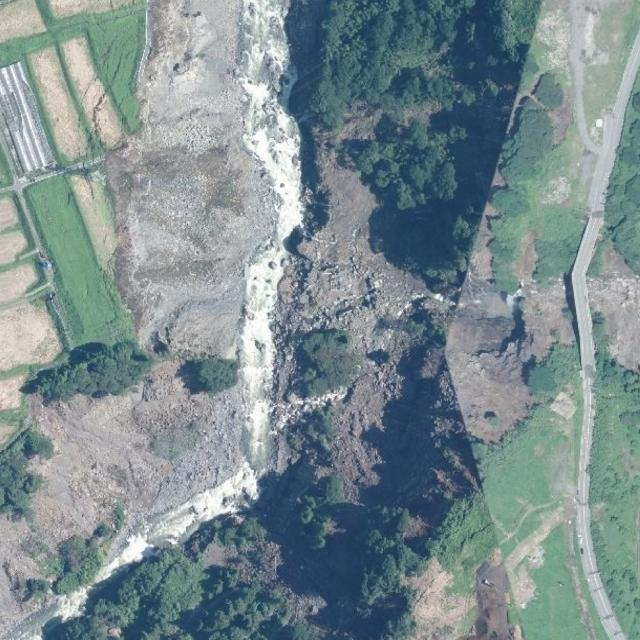landslide: (34, 1, 293, 555), (253, 135, 492, 639), (238, 0, 304, 471), (447, 272, 534, 443), (589, 246, 640, 371)
